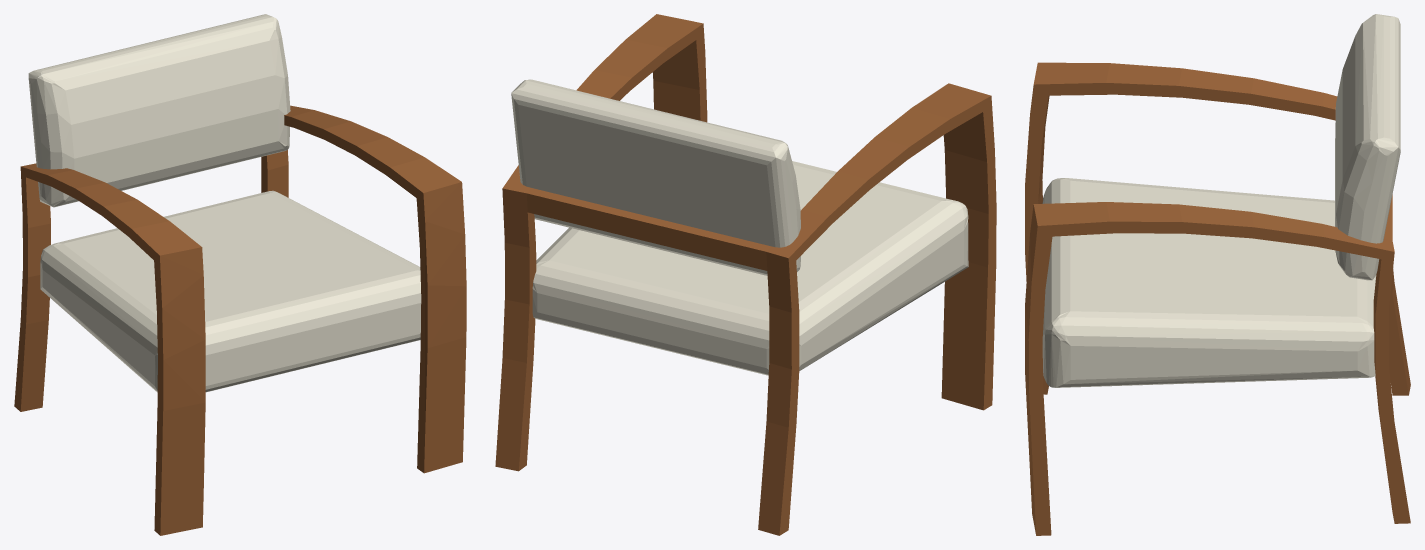
The model's file is scene_JlBRxYonTF.glb.
The picture shows the model from 3 angles, left to right: view 1: azimuth 30°, elevation 25°; view 2: azimuth 150°, elevation 25°; view 3: azimuth 270°, elevation 25°; orthographic projection. The views are drawn at different scales.
Parts seen in each view (by area): view 1: Node; view 2: Node; view 3: Node.
Part boxes in pixels (x1,y1,x2,y2): Node: (14,14,466,535); Node: (495,14,996,535); Node: (1025,14,1410,535).
Bounding box in the file's own units: 29.73 × 31.93 × 29.56.
